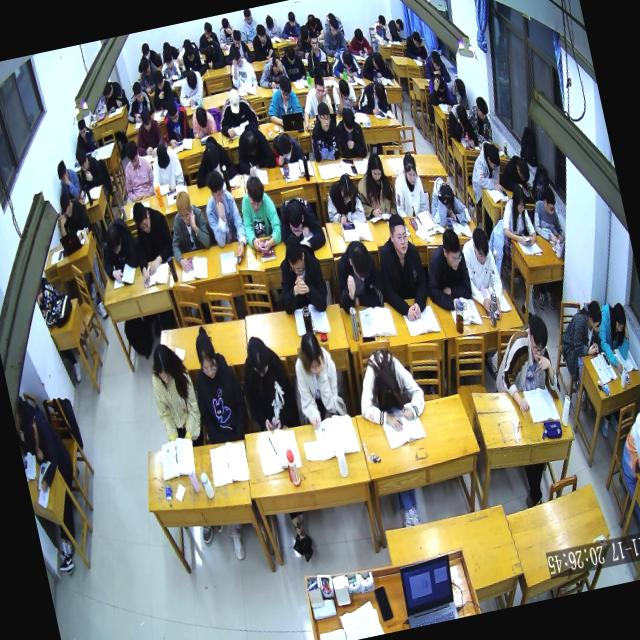bow: (347, 340, 430, 440), (272, 188, 328, 255), (92, 214, 143, 286), (228, 116, 278, 180), (186, 129, 238, 189), (326, 41, 365, 88), (496, 152, 534, 196), (268, 122, 306, 164), (253, 52, 291, 93), (358, 46, 395, 86), (344, 24, 376, 60), (198, 34, 228, 70), (100, 77, 130, 109), (301, 7, 325, 38)
down: (17, 400, 77, 494), (521, 306, 555, 364), (294, 324, 326, 376), (192, 330, 222, 382), (344, 234, 374, 282), (242, 330, 271, 377), (150, 341, 178, 389), (436, 223, 464, 270), (281, 233, 308, 278), (68, 117, 98, 156), (468, 224, 493, 267), (282, 193, 306, 237), (172, 186, 196, 227), (204, 166, 229, 205), (242, 172, 267, 210), (18, 416, 42, 454), (128, 196, 152, 234), (398, 147, 419, 185), (583, 296, 604, 334), (364, 148, 386, 184), (102, 220, 125, 254), (608, 299, 629, 336), (335, 170, 356, 204), (540, 184, 560, 218), (200, 136, 222, 166), (238, 128, 260, 158), (437, 180, 457, 212), (482, 140, 502, 172), (122, 136, 142, 167), (339, 104, 358, 136), (513, 152, 532, 184), (152, 140, 172, 170), (508, 183, 526, 216), (224, 84, 243, 115), (276, 70, 294, 101), (275, 129, 294, 157), (162, 96, 180, 125), (137, 102, 154, 132), (310, 72, 327, 102), (454, 99, 471, 129), (473, 94, 490, 124), (57, 192, 75, 220), (193, 105, 211, 132), (54, 160, 71, 187), (369, 78, 386, 104), (129, 78, 145, 105), (184, 68, 200, 94), (150, 68, 166, 93), (228, 43, 244, 68), (326, 13, 342, 38), (338, 44, 354, 69), (75, 148, 90, 174), (161, 46, 176, 72), (337, 77, 352, 103), (137, 55, 152, 79), (282, 40, 297, 64), (453, 76, 468, 100), (229, 27, 244, 50), (98, 80, 115, 100), (236, 80, 257, 96), (254, 21, 268, 45), (428, 48, 442, 72), (268, 52, 283, 74), (306, 11, 320, 34), (298, 21, 312, 44), (74, 118, 88, 140), (200, 18, 214, 40), (432, 70, 446, 92), (202, 43, 217, 63), (183, 40, 197, 61), (352, 26, 366, 47), (138, 40, 152, 60), (370, 48, 384, 68), (263, 12, 276, 33), (285, 9, 298, 30), (410, 27, 422, 48), (393, 12, 404, 33), (377, 12, 388, 32), (220, 16, 232, 34), (242, 8, 254, 26)
lookup: (384, 210, 412, 258), (314, 100, 333, 132), (306, 26, 322, 52)
sit: (180, 314, 253, 446), (481, 308, 564, 416), (366, 206, 435, 325), (143, 338, 207, 453), (232, 326, 300, 434), (283, 322, 349, 429), (267, 226, 329, 316), (413, 222, 475, 312), (197, 162, 251, 264), (125, 194, 181, 290), (159, 182, 216, 276), (456, 223, 509, 323), (328, 233, 387, 317), (232, 170, 286, 257), (551, 298, 610, 364), (349, 146, 398, 219), (591, 297, 637, 373), (383, 147, 429, 218), (494, 182, 539, 252), (210, 84, 262, 142), (114, 132, 158, 200), (301, 98, 345, 166), (318, 166, 366, 227), (524, 180, 566, 246), (259, 71, 305, 131), (608, 401, 640, 486), (462, 136, 506, 197), (294, 70, 337, 132), (144, 140, 188, 198), (52, 184, 94, 242), (68, 140, 108, 197), (128, 103, 168, 160), (330, 100, 368, 160), (156, 91, 194, 148), (442, 96, 478, 148), (298, 27, 332, 82), (119, 76, 156, 125), (224, 42, 259, 92), (352, 76, 391, 120), (464, 92, 495, 145), (172, 66, 208, 110), (220, 25, 256, 68), (52, 157, 84, 205), (317, 12, 349, 58), (328, 74, 360, 120), (424, 70, 456, 116), (446, 290, 482, 329), (418, 44, 452, 85), (276, 38, 308, 81), (145, 66, 176, 110), (247, 20, 277, 64), (186, 100, 219, 140), (175, 36, 207, 76), (133, 53, 162, 96), (400, 24, 429, 64), (288, 20, 315, 61), (155, 42, 183, 81), (132, 40, 164, 74), (193, 18, 221, 56), (213, 13, 240, 52), (274, 8, 304, 42), (234, 8, 260, 46), (368, 8, 393, 47), (446, 71, 470, 110), (260, 8, 282, 38), (386, 15, 406, 44)
